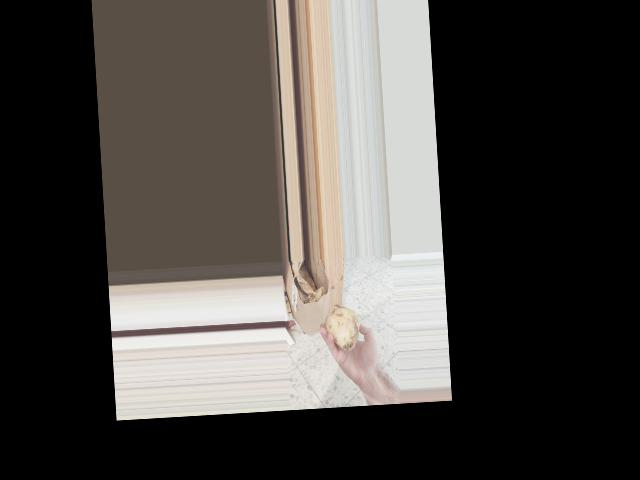onion: (322, 303, 364, 353)
